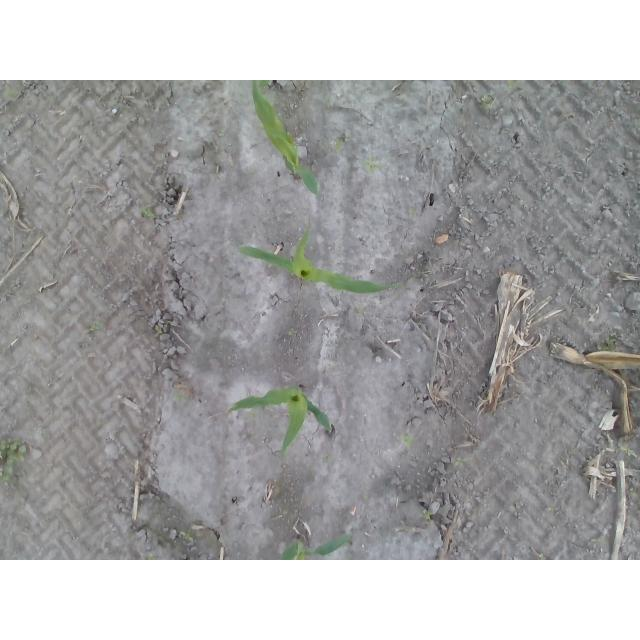Maize: (238, 217, 402, 295), (251, 80, 321, 198), (226, 384, 332, 461), (277, 536, 351, 561)
Weeds: (1, 438, 28, 487), (362, 155, 385, 173), (476, 93, 493, 111), (597, 337, 616, 352), (399, 434, 413, 449), (141, 206, 156, 219), (4, 84, 17, 98), (334, 138, 345, 154), (173, 390, 187, 402), (504, 80, 520, 90), (620, 445, 634, 456), (455, 457, 469, 468), (417, 509, 432, 519), (179, 531, 193, 541), (258, 80, 272, 88), (140, 553, 156, 560), (91, 321, 102, 331), (323, 453, 334, 463), (629, 487, 638, 497), (409, 207, 418, 217), (153, 325, 163, 333), (287, 328, 297, 335), (243, 167, 254, 173), (538, 553, 546, 560), (248, 411, 256, 418), (548, 505, 557, 511)
